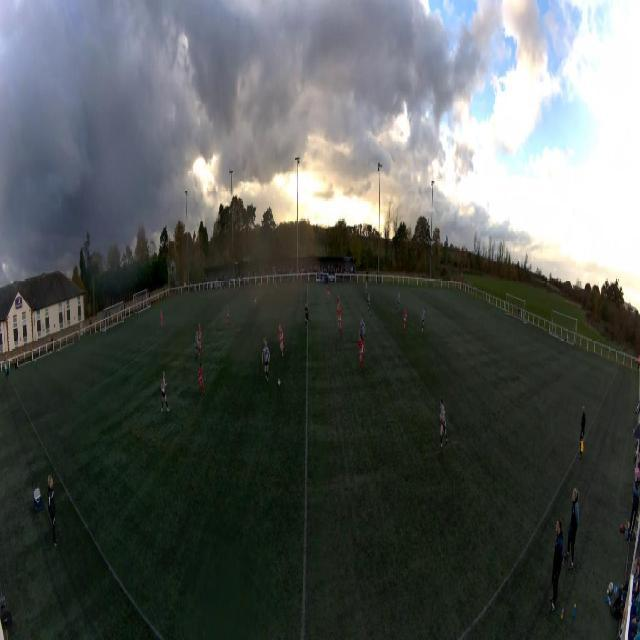ball: (278, 379, 281, 386)
player: (439, 397, 449, 448), (160, 371, 169, 415), (262, 339, 270, 381), (197, 362, 206, 396), (357, 333, 365, 370), (278, 323, 285, 358), (198, 323, 204, 355), (359, 314, 365, 343), (194, 330, 199, 360), (337, 307, 342, 336), (304, 301, 309, 329), (226, 303, 231, 329), (403, 306, 407, 335), (337, 295, 342, 316), (421, 307, 425, 333), (326, 283, 331, 303), (367, 294, 371, 315), (160, 309, 164, 328), (398, 291, 401, 313), (254, 292, 257, 309), (364, 282, 367, 298), (499, 304, 502, 319), (275, 281, 278, 295)
